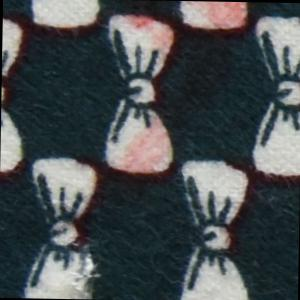Damage: (69, 239, 110, 300)
Stain: (114, 1, 260, 187)
